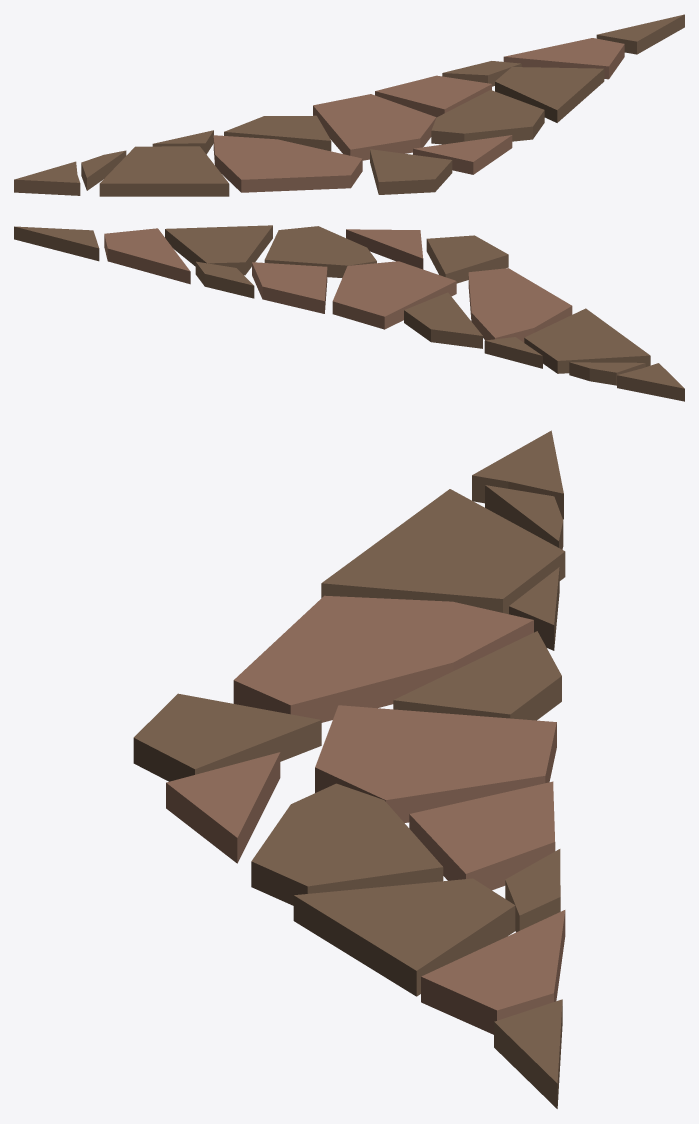
The model's file is tile_triangle.fbx.
3 renders of one model, top to bottom at view 1: azimuth 30°, elevation 25°; view 2: azimuth 150°, elevation 25°; view 3: azimuth 270°, elevation 25°, orthographic. The views are drawn at different scales.
Visible parts, largest first — view 1: Plane.001; view 2: Plane.001; view 3: Plane.001.
Part boxes in pixels (left/top/right/bottom): Plane.001: left=14, top=14, right=684, bottom=196; Plane.001: left=14, top=225, right=684, bottom=401; Plane.001: left=133, top=430, right=565, bottom=1108.
Size of the model in its own units: 2015 by 37.2 by 563.
